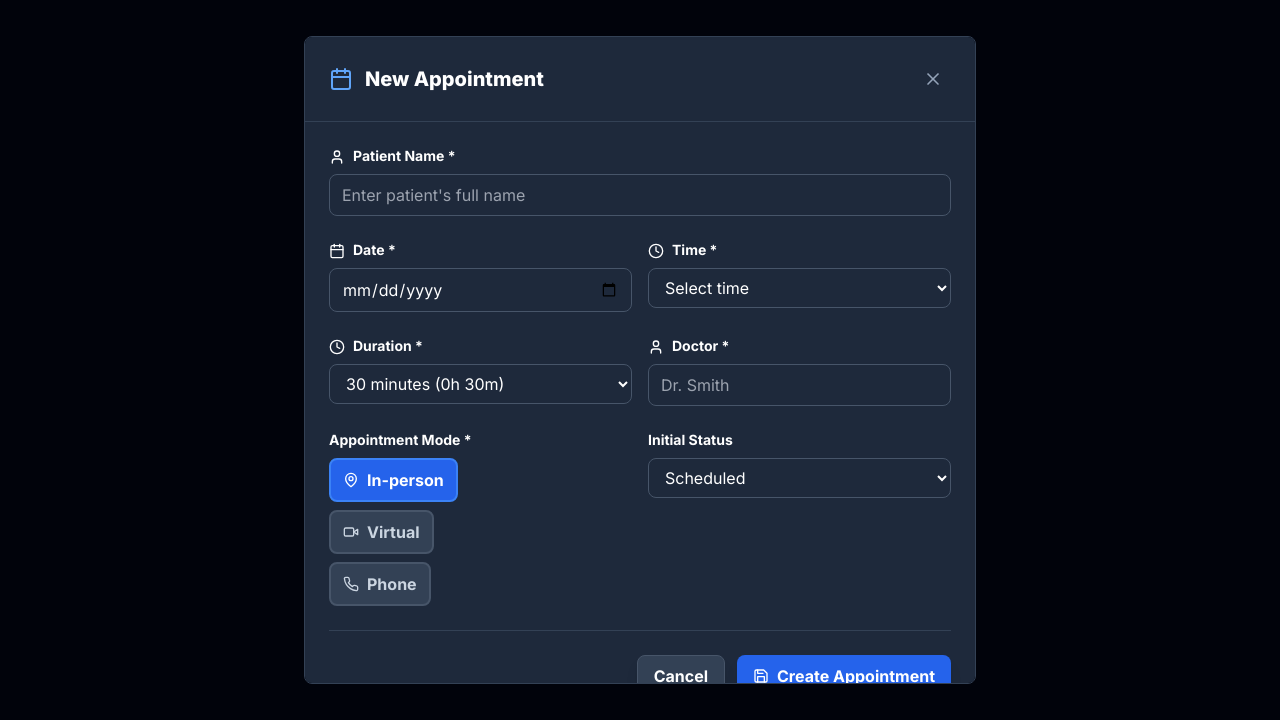
Test: AppointmentForm › validates required fields
The width and height of the screenshot is (1280, 720).
// Try to submit empty form
Click the button "Create Appointment".
click(844, 676)  # box [737,655,951,697]
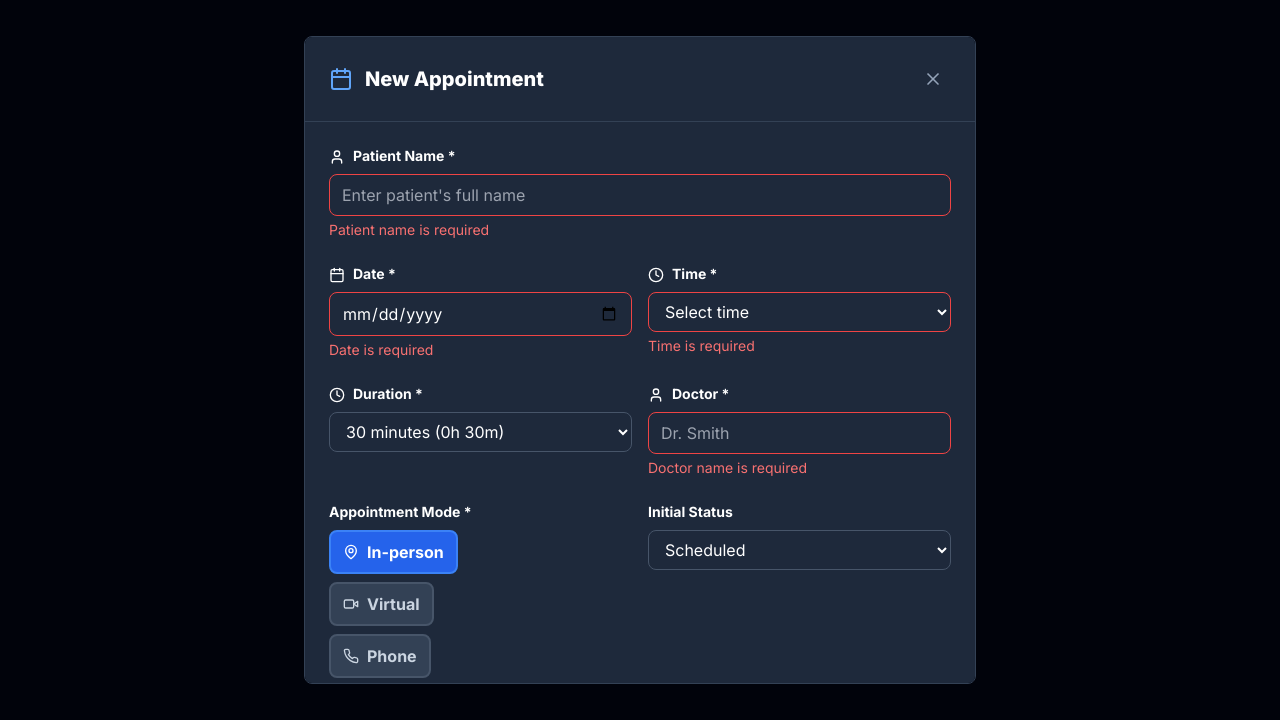
Now the text "Patient name is required" is shown, box [329,221,489,238]
Now the text "Date is required" is shown, box [329,341,434,358]
Now the text "Time is required" is shown, box [648,337,755,354]
